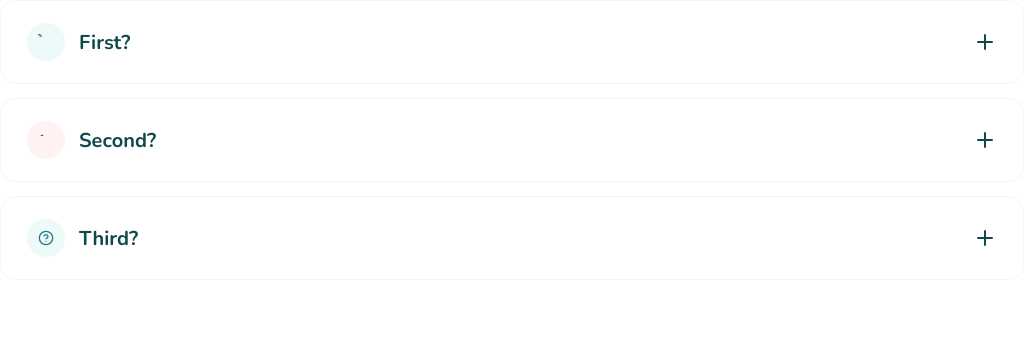
Test: FaqCards toggling (single mode) › starts collapsed and toggles with click
Step 1. Click the button "First?" → (46, 42), box [27, 23, 997, 61]
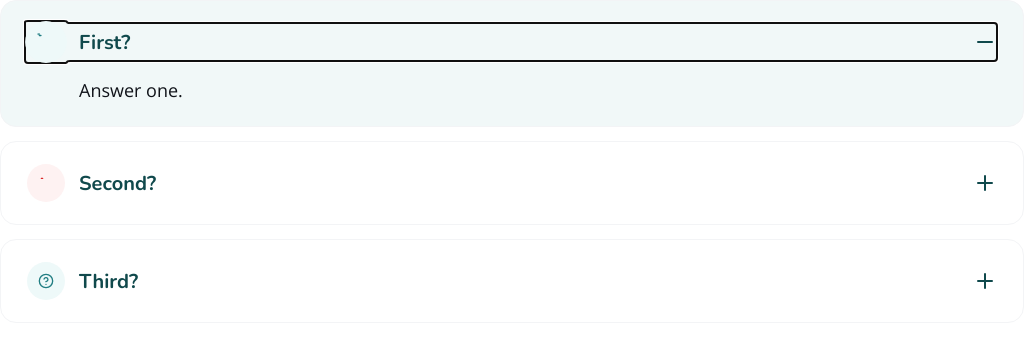
Expected: the text "Answer one." is shown, [79, 78, 183, 102]
Expected: the button "First?" is expanded
Step 2. Click the button "First?" → (46, 42), box [27, 23, 997, 61]
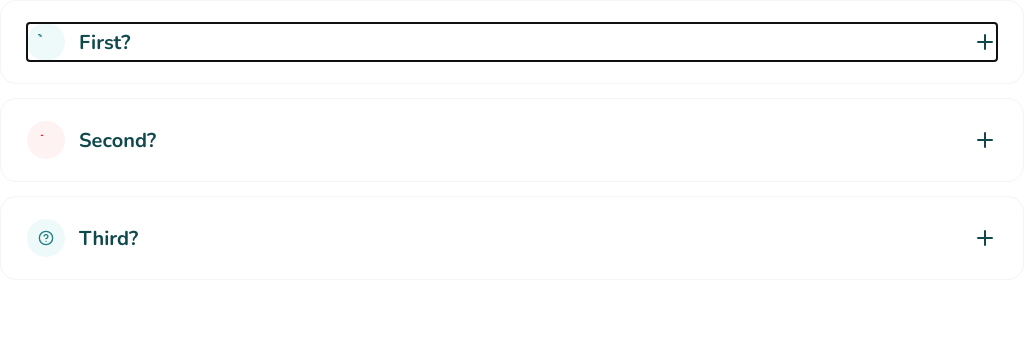
Expected: the button "First?" is collapsed, [27, 23, 997, 61]
